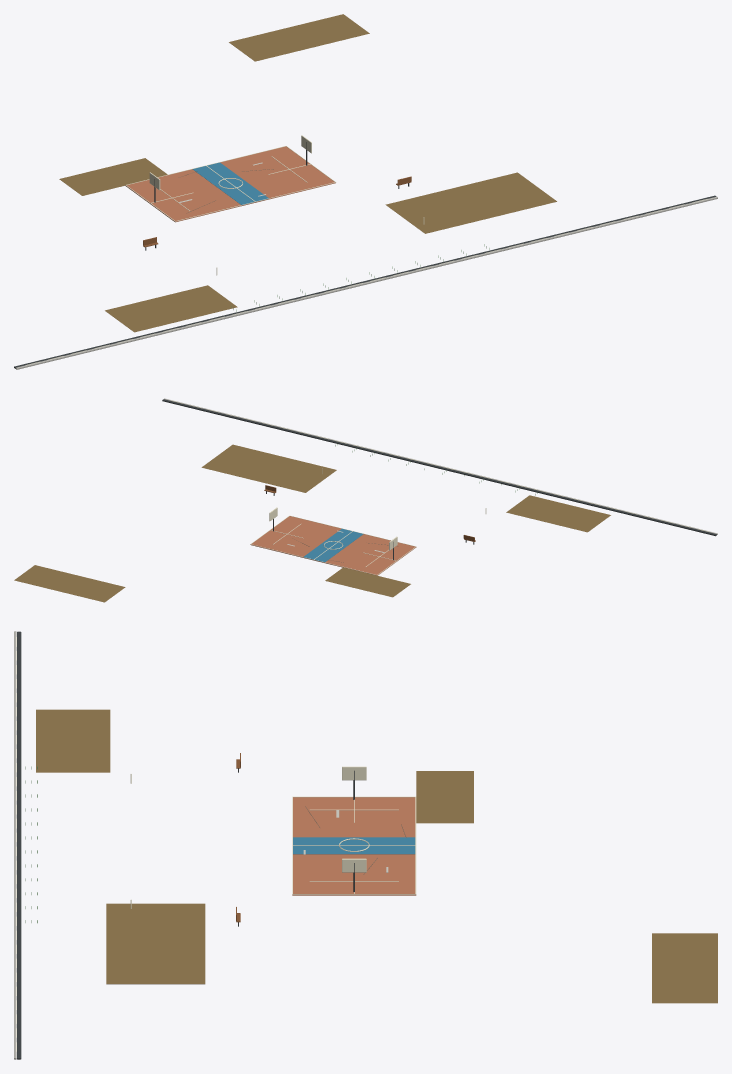
Rendered from field.glb.
3 views of the same model, one above another, from view 1: azimuth 30°, elevation 25°; view 2: azimuth 150°, elevation 25°; view 3: azimuth 270°, elevation 25° (orthographic). The views are drawn at different scales.
Parts seen in each view (by area): view 1: Basketball_Court, Field_Worn_Patch_2, Field_Worn_Patch_1, Field_Worn_Patch_4, Field_Boundary_Front, Field_Worn_Patch_3, Field_Drain_Channel, Court_Center_Lane; view 2: Basketball_Court, Field_Worn_Patch_2, Field_Worn_Patch_1, Field_Worn_Patch_4, Field_Drain_Channel, Field_Worn_Patch_3, Field_Boundary_Front, Court_Center_Lane; view 3: Basketball_Court, Field_Worn_Patch_2, Field_Worn_Patch_1, Field_Worn_Patch_4, Field_Worn_Patch_3, Court_Center_Lane, Field_Drain_Channel, Field_Boundary_Front.
Boxes of the visible parts, left/top/right/bottom form: Basketball_Court: left=125, top=146, right=335, bottom=222; Field_Worn_Patch_2: left=385, top=172, right=556, bottom=233; Field_Worn_Patch_1: left=105, top=285, right=237, bottom=332; Field_Worn_Patch_4: left=229, top=14, right=369, bottom=61; Field_Boundary_Front: left=15, top=196, right=717, bottom=369; Field_Worn_Patch_3: left=59, top=158, right=167, bottom=195; Field_Drain_Channel: left=14, top=195, right=716, bottom=368; Court_Center_Lane: left=192, top=162, right=268, bottom=204; Basketball_Court: left=250, top=516, right=416, bottom=575; Field_Worn_Patch_2: left=201, top=444, right=336, bottom=492; Field_Worn_Patch_1: left=506, top=495, right=610, bottom=532; Field_Worn_Patch_4: left=14, top=565, right=125, bottom=602; Field_Drain_Channel: left=162, top=399, right=716, bottom=536; Field_Worn_Patch_3: left=325, top=567, right=410, bottom=597; Field_Boundary_Front: left=164, top=398, right=717, bottom=534; Court_Center_Lane: left=303, top=528, right=363, bottom=562; Basketball_Court: left=292, top=797, right=416, bottom=895; Field_Worn_Patch_2: left=106, top=903, right=205, bottom=984; Field_Worn_Patch_1: left=36, top=709, right=110, bottom=772; Field_Worn_Patch_4: left=652, top=933, right=717, bottom=1003; Field_Worn_Patch_3: left=416, top=771, right=473, bottom=823; Court_Center_Lane: left=293, top=837, right=415, bottom=854; Field_Drain_Channel: left=17, top=631, right=21, bottom=1059; Field_Boundary_Front: left=14, top=631, right=16, bottom=1059.
Bounding box in the file's own units: 122 × 4.51 × 85.16.
